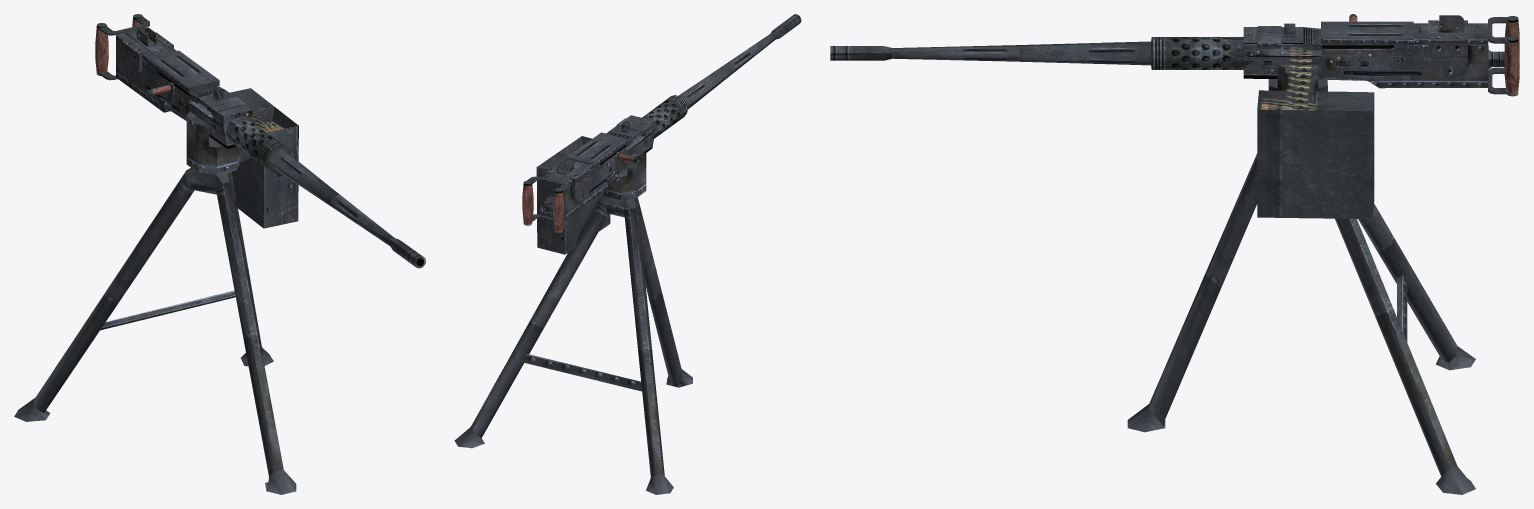
The model's file is E50TriB.glb.
3 renders of one model, left to right at view 1: azimuth 30°, elevation 25°; view 2: azimuth 150°, elevation 25°; view 3: azimuth 270°, elevation 25°, orthographic. The views are drawn at different scales.
Parts seen in each view (by area): view 1: _E50TriB; view 2: _E50TriB; view 3: _E50TriB.
Part boxes in pixels (x1,y1,x2,y2): _E50TriB: (14, 14, 425, 494); _E50TriB: (454, 14, 801, 494); _E50TriB: (830, 14, 1519, 494).
Size of the model in its own units: 1.12 by 1.5 by 2.3.
2 materials, 2 textured.
